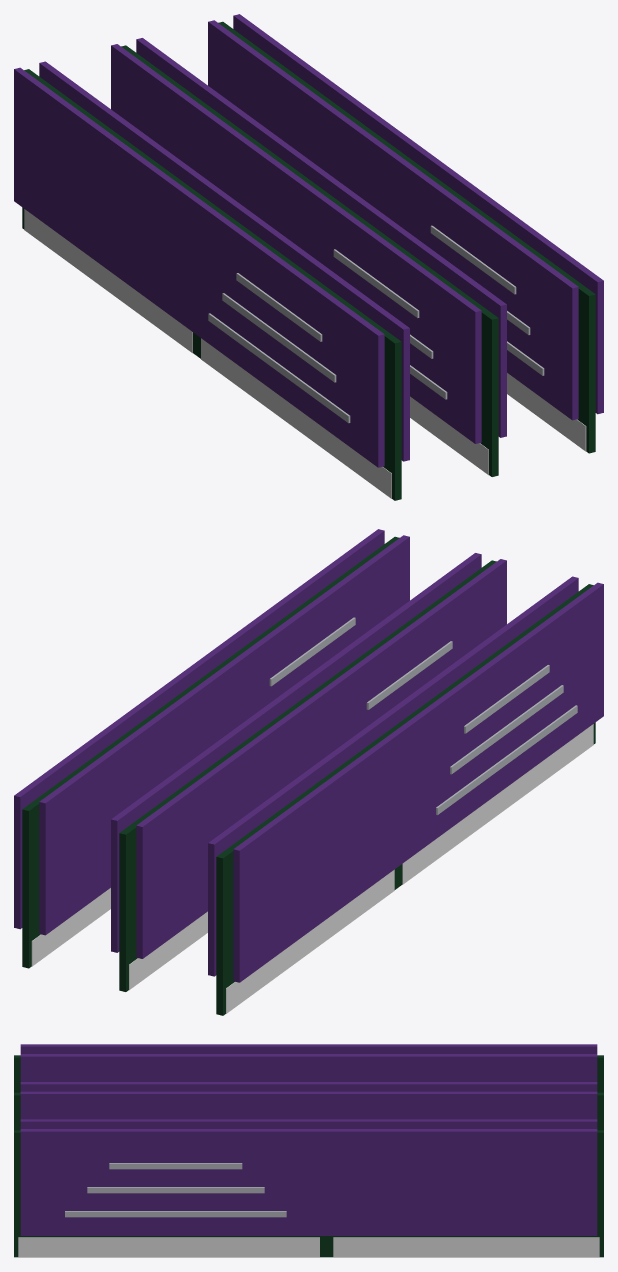
File: hw_ram_ddr2_6gb.glb
3 views of the same model, one above another, from view 1: azimuth 30°, elevation 25°; view 2: azimuth 150°, elevation 25°; view 3: azimuth 270°, elevation 25° (orthographic). The views are drawn at different scales.
Parts seen in each view (by area): view 1: Stick_1, Body, Stick_2; view 2: Stick_1, Body, Stick_2; view 3: Body, Stick_2, Stick_1.
Boxes of the visible parts, x1,y1,x2,y2 form: Stick_1: (14,61,409,500); Body: (208,14,603,453); Stick_2: (111,38,506,476); Stick_1: (208,576,603,1015); Body: (14,529,409,968); Stick_2: (111,553,506,991); Body: (14,1119,603,1257); Stick_2: (14,1082,603,1130); Stick_1: (14,1044,603,1092).
Size of the model in its own units: 0.0472 by 0.0325 by 0.133.
